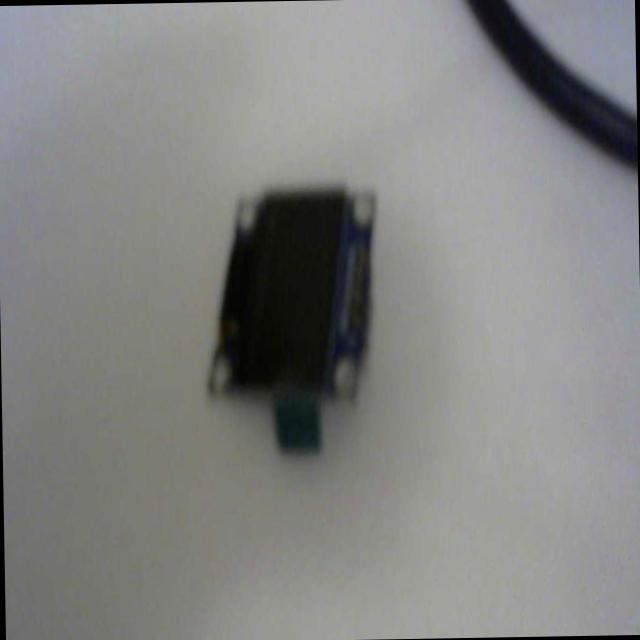oled: (210, 182, 383, 458)
